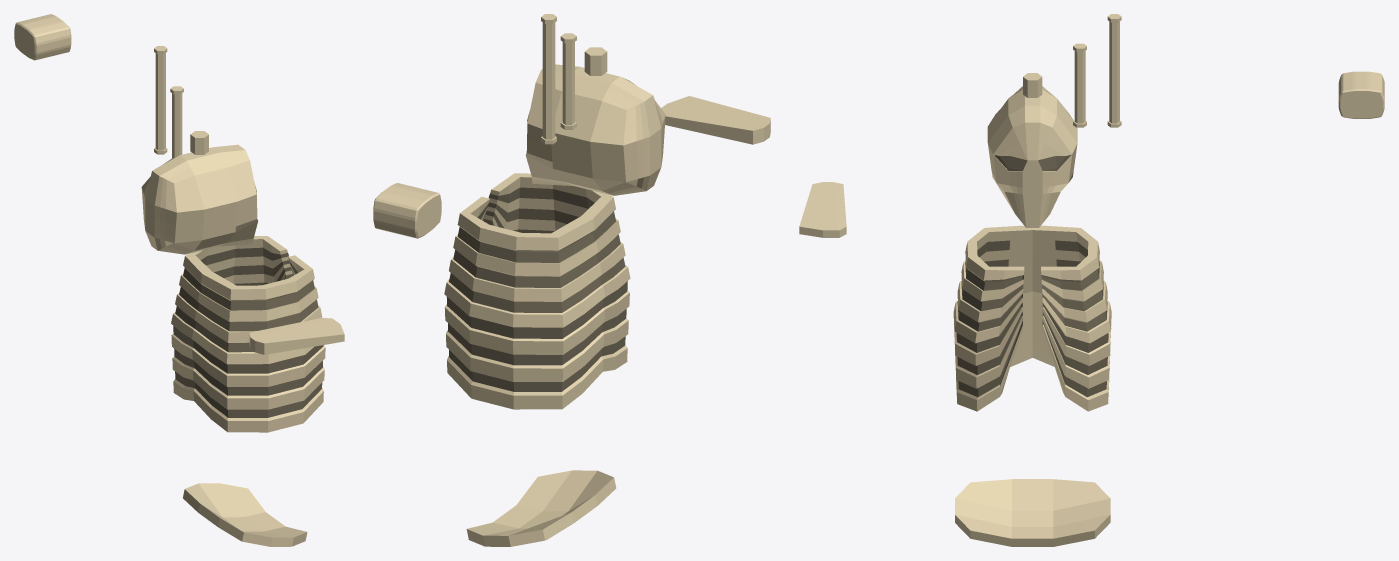
File: skeleton.fbx
The picture shows the model from 3 angles, left to right: view 1: azimuth 30°, elevation 25°; view 2: azimuth 150°, elevation 25°; view 3: azimuth 270°, elevation 25°; orthographic projection. The views are drawn at different scales.
Parts seen in each view (by area): view 1: ribs, skull, such, heel, wrist, bone_1, bone, backward; view 2: ribs, skull, such, heel, wrist, bone_1, bone, backward; view 3: ribs, such, skull, heel, wrist, bone_1, bone.
Part boxes in pixels (x1,y1,x2,y2): ribs: [171, 236, 325, 432]; skull: [141, 144, 257, 254]; such: [183, 483, 307, 546]; heel: [249, 318, 344, 354]; wrist: [14, 14, 71, 60]; bone_1: [154, 46, 167, 154]; bone: [170, 86, 183, 158]; backward: [190, 131, 208, 154]; ribs: [444, 173, 630, 409]; skull: [525, 64, 665, 195]; such: [466, 470, 616, 546]; heel: [661, 96, 770, 144]; wrist: [373, 183, 441, 238]; bone_1: [541, 14, 556, 144]; bone: [560, 33, 576, 129]; backward: [584, 47, 607, 75]; ribs: [953, 225, 1111, 411]; such: [955, 479, 1110, 546]; skull: [987, 86, 1077, 227]; heel: [799, 182, 846, 237]; wrist: [1338, 71, 1384, 118]; bone_1: [1107, 14, 1121, 127]; bone: [1073, 43, 1086, 127].
Bounding box in the file's own units: 225 × 676 × 728.
